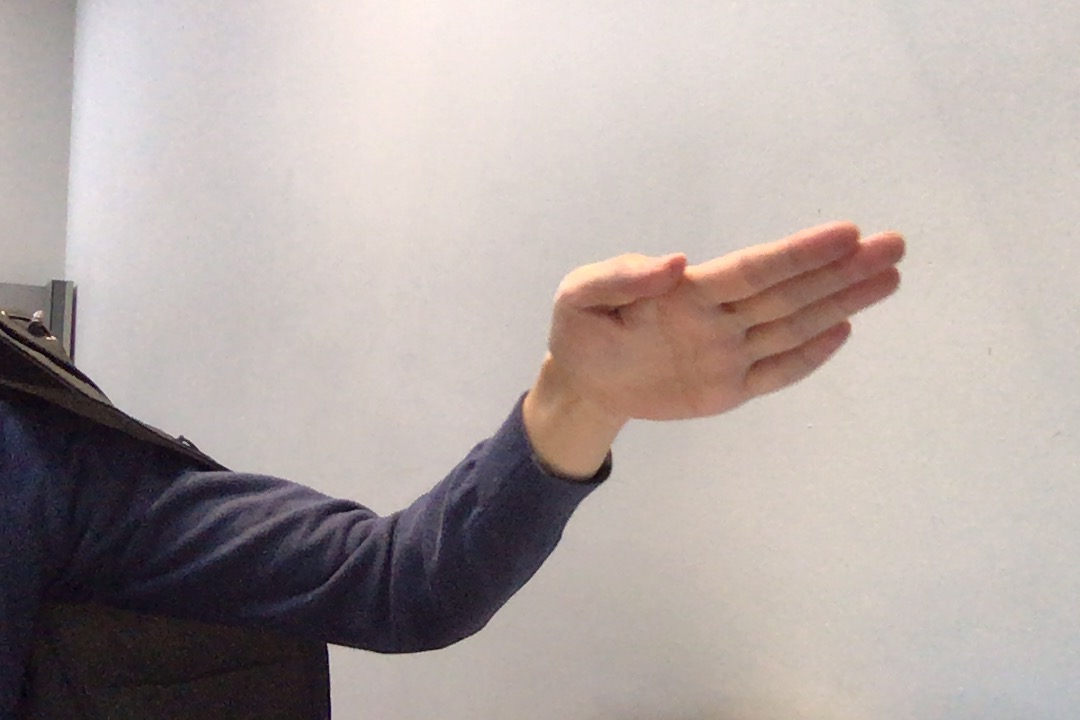palmhand: (530, 208, 921, 437)
